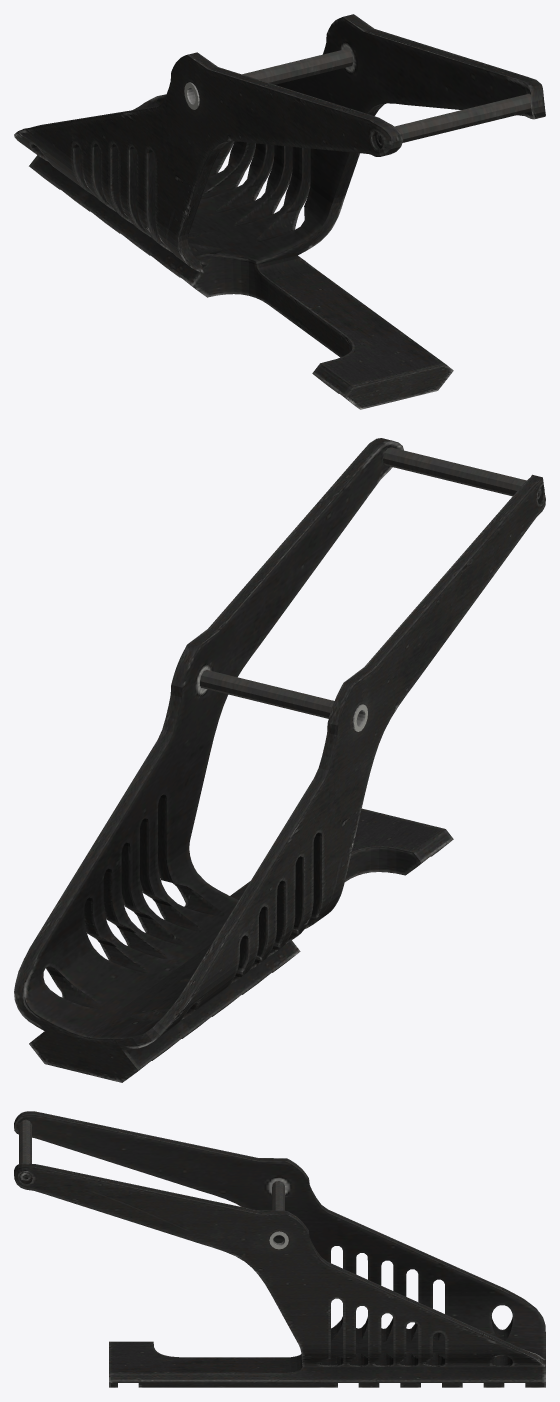
3 renders of one model, top to bottom at view 1: azimuth 30°, elevation 25°; view 2: azimuth 150°, elevation 25°; view 3: azimuth 270°, elevation 25°, orthographic. The views are drawn at different scales.
Visible parts, largest first — view 1: TW_5a7ad55551dfba0015068f42_PZ_Import; view 2: TW_5a7ad55551dfba0015068f42_PZ_Import; view 3: TW_5a7ad55551dfba0015068f42_PZ_Import.
Boxes of the visible parts, x1,y1,x2,y2 form: TW_5a7ad55551dfba0015068f42_PZ_Import: (14, 14, 545, 409); TW_5a7ad55551dfba0015068f42_PZ_Import: (14, 438, 545, 1082); TW_5a7ad55551dfba0015068f42_PZ_Import: (14, 1111, 545, 1387).
Bounding box in the file's own units: 0.0188 × 0.0739 × 0.036.
Materials: 1 (1 with a texture image).
